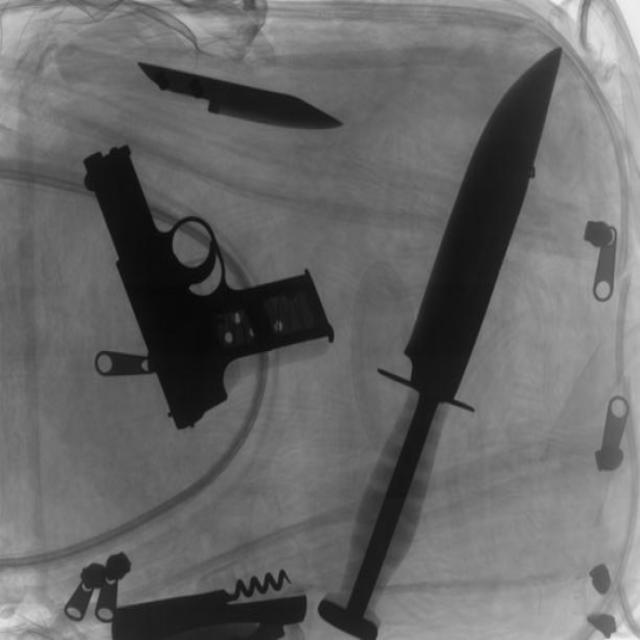GUN: (84, 141, 335, 432)
KNIFE: (134, 48, 350, 145)
